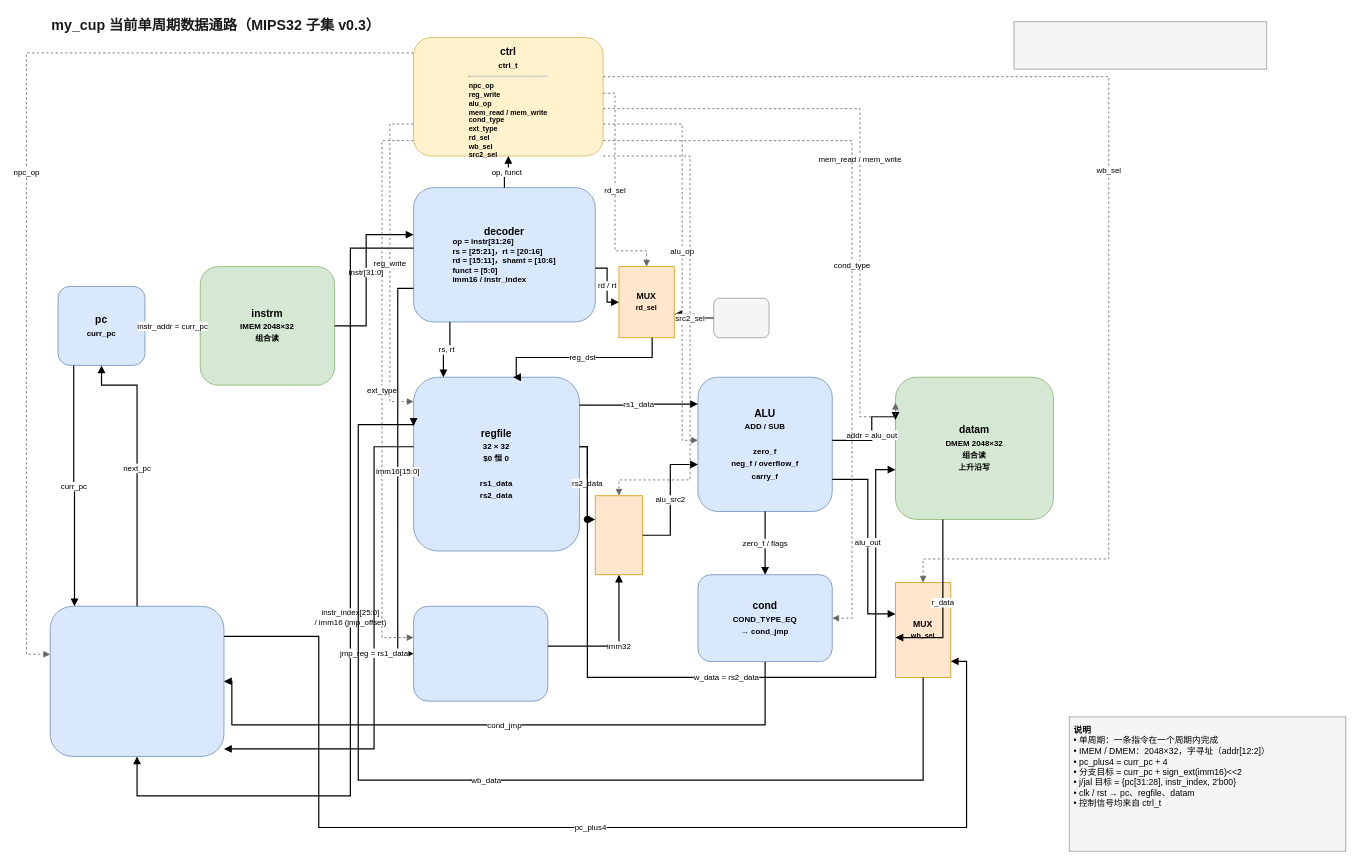
The diagram is 1360 pixels wide and 865 high, and some of its shapes have lost their labels. The box of each missing label's shape, as (x1, y1, x2, y2) in pixels:
5'd31 ($ra): (713, 297, 769, 338)
ext 16 → 32 符号 / 零扩展: (413, 606, 548, 701)
MUX src2_sel: (594, 495, 643, 575)
npc PLUS4 / BRANCH DIRECT / RA pc_plus4 next_pc: (49, 606, 224, 756)
实线：数据 / 地址 虚线：控制信号: (1013, 21, 1267, 69)
